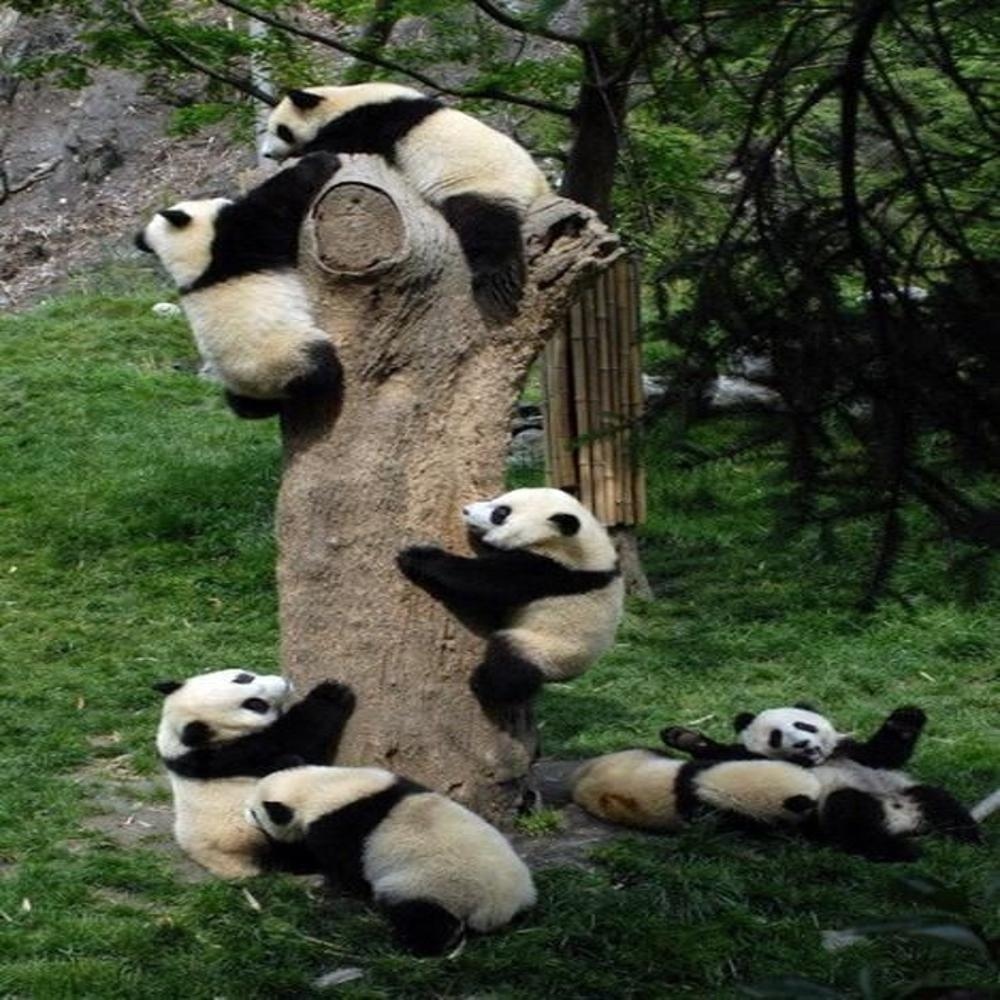panda: (386, 474, 636, 739)
